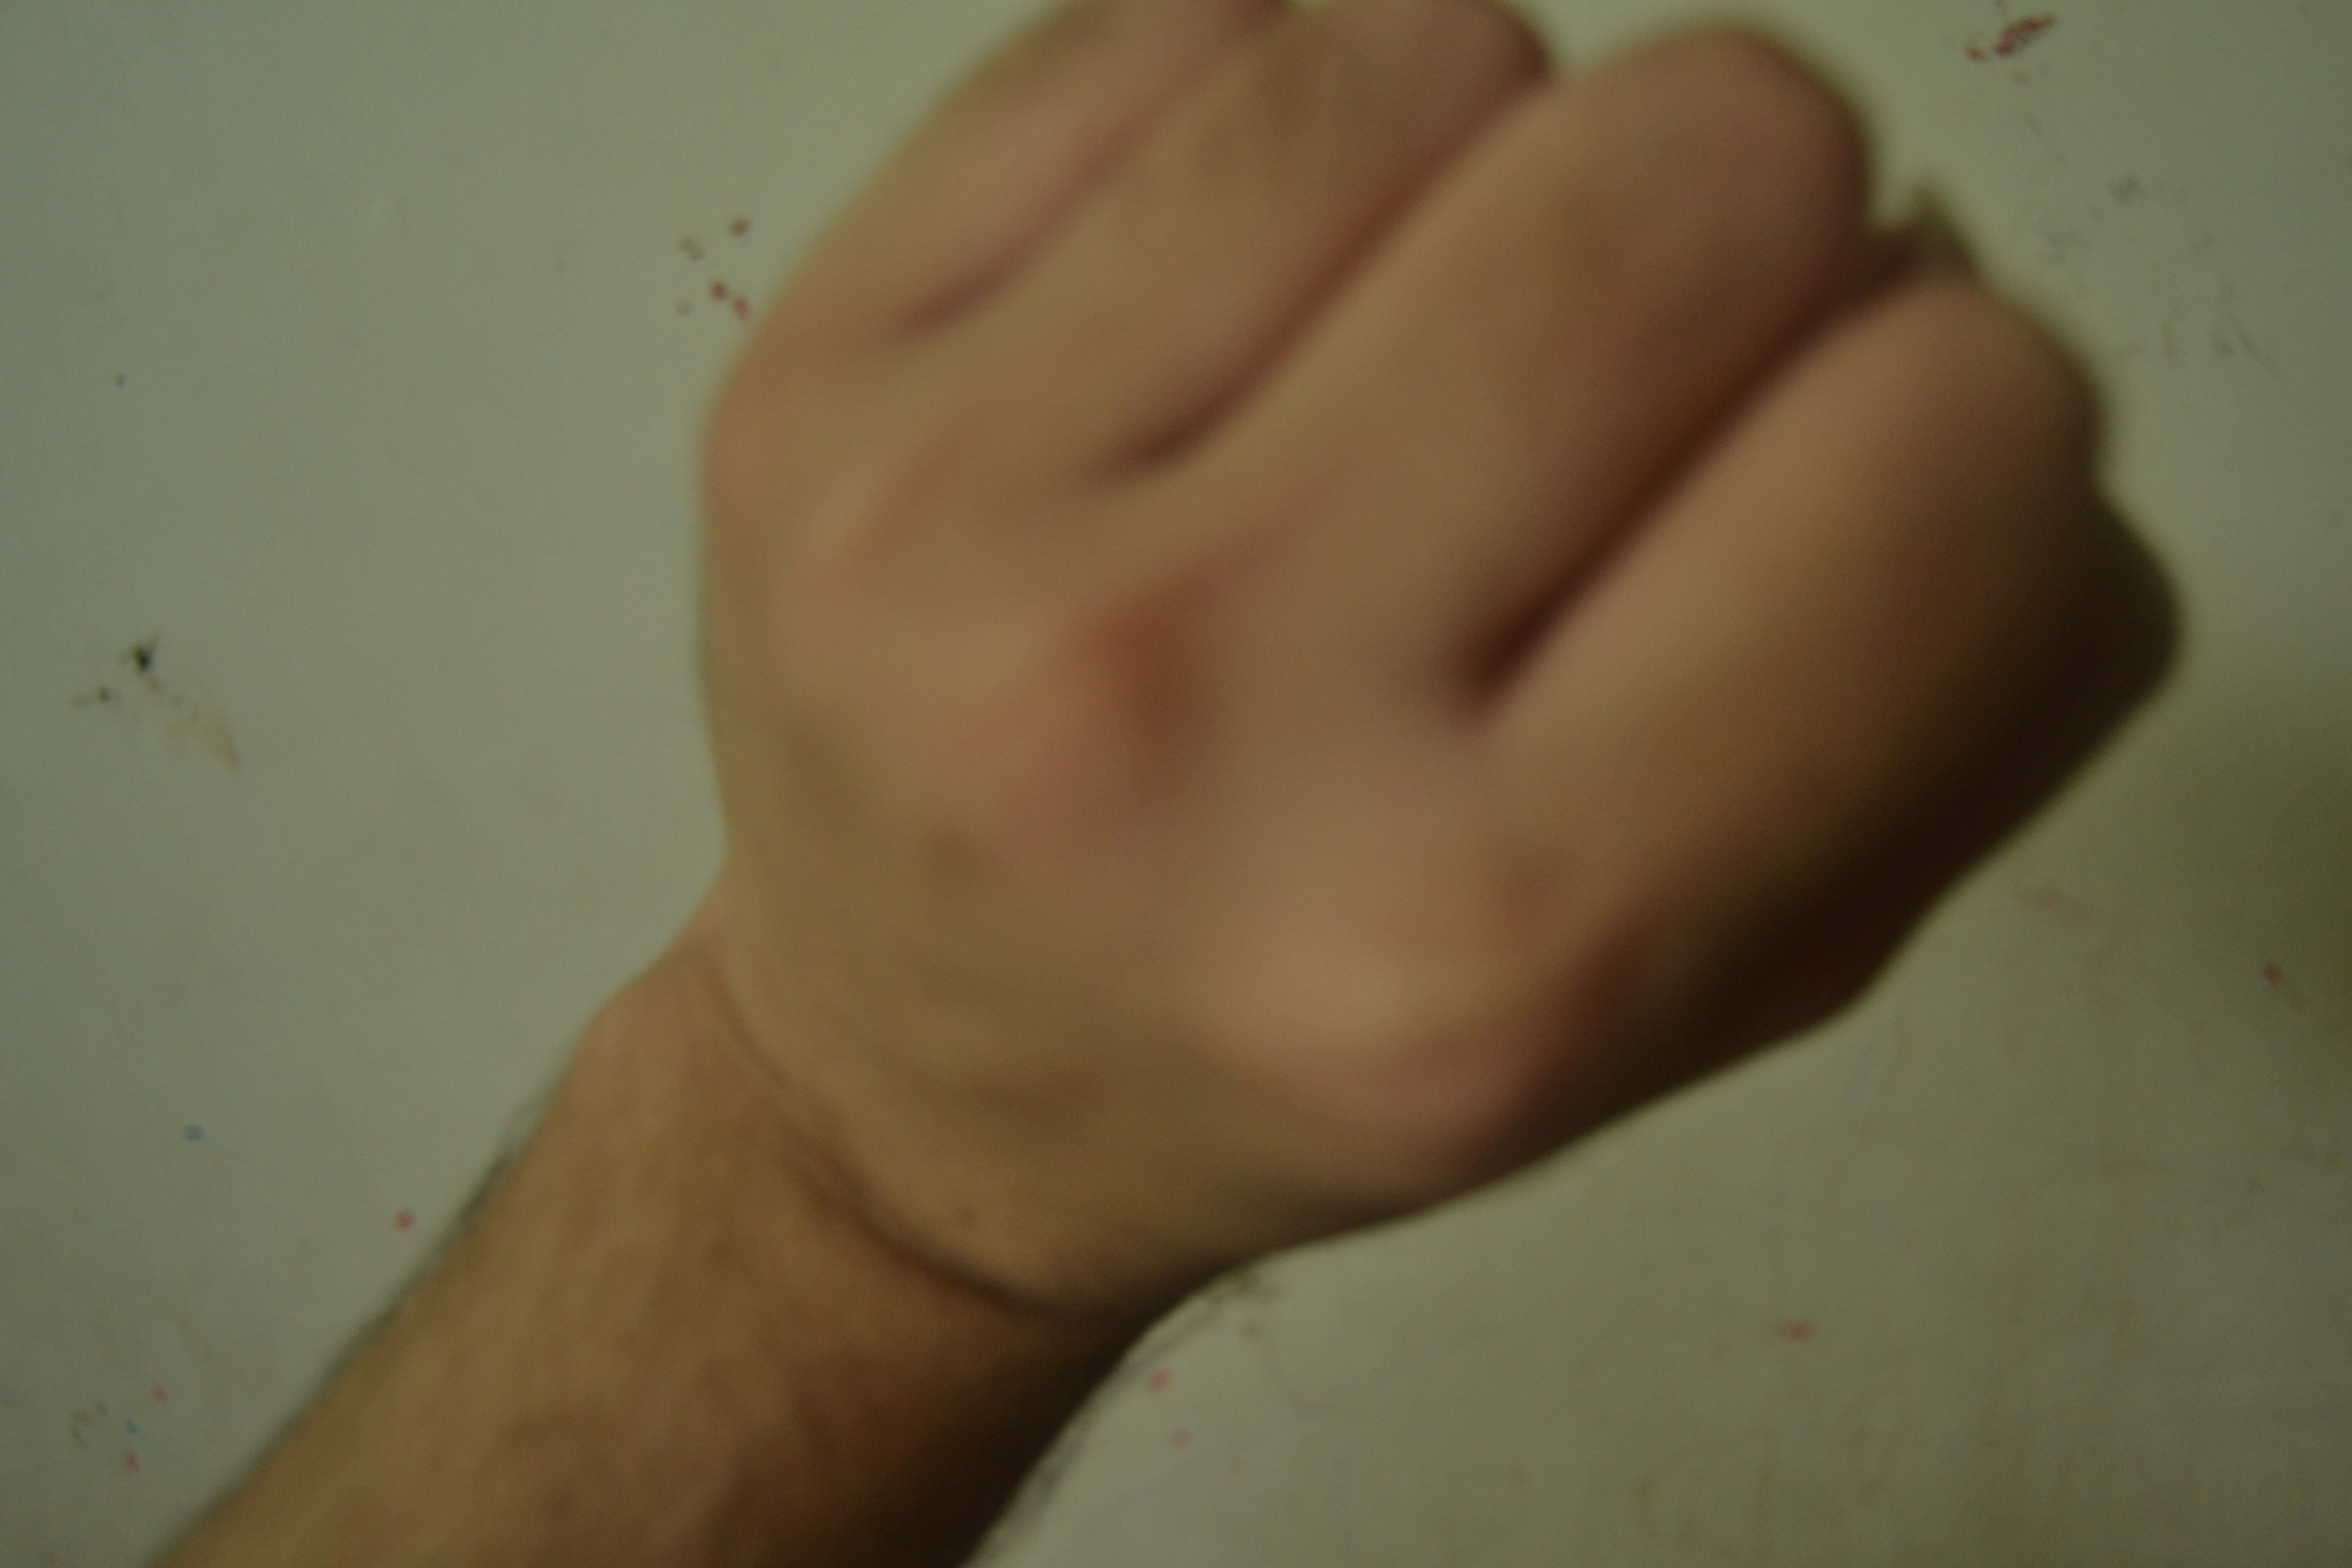click: (633, 12, 2228, 1398)
